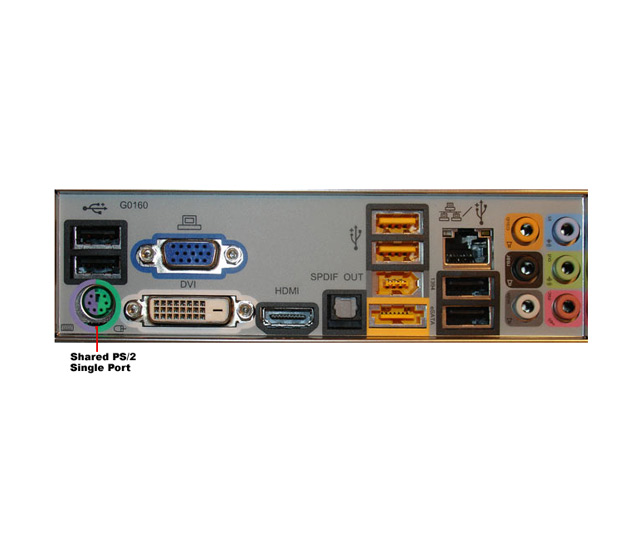Audio: (548, 215, 586, 249), (548, 288, 582, 325), (508, 291, 545, 323), (549, 252, 582, 284), (513, 213, 541, 247), (507, 257, 541, 284)
DVI: (145, 292, 236, 328)
Ethernet: (440, 226, 496, 266)
USB: (66, 223, 127, 252), (65, 251, 125, 280), (438, 302, 495, 331), (437, 271, 497, 298)
VGA: (159, 238, 221, 273)
